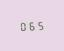five: (37, 19, 45, 30)
six: (28, 20, 36, 30)
zero: (18, 20, 26, 31)
